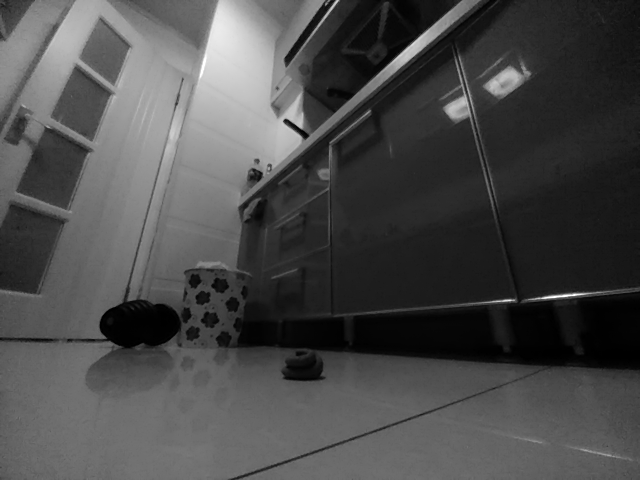pet feces: (281, 347, 325, 382)
